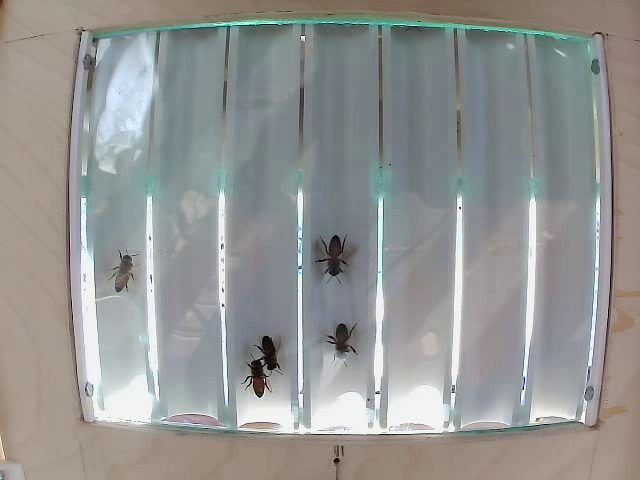bee: (101, 248, 148, 292), (317, 236, 351, 288), (248, 330, 289, 371), (323, 315, 360, 354), (239, 362, 277, 395)
